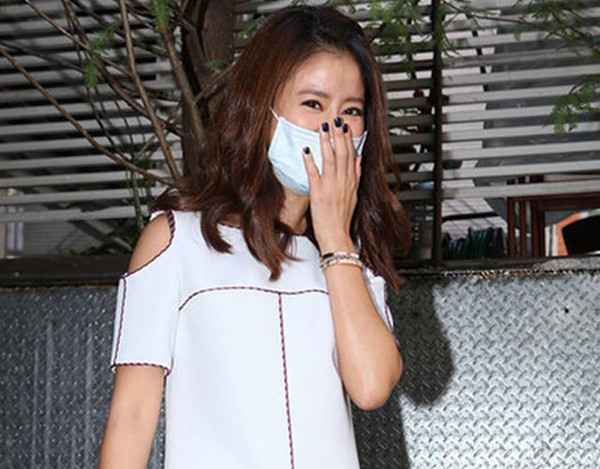face_mask: (259, 50, 366, 186)
